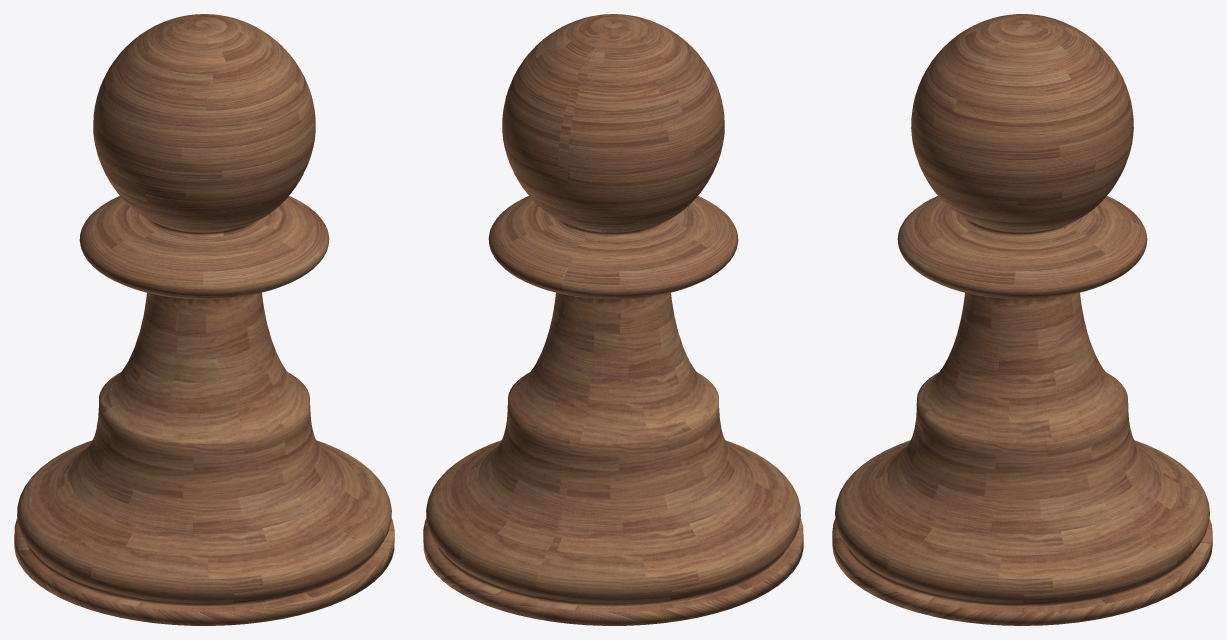
Rendered from model_pawn.glb.
The picture shows the model from 3 angles, left to right: view 1: azimuth 30°, elevation 25°; view 2: azimuth 150°, elevation 25°; view 3: azimuth 270°, elevation 25°; orthographic projection.
Visible parts, largest first — view 1: PAWN; view 2: PAWN; view 3: PAWN.
Part boxes in pixels (box(x1,y1,x2,y2)): PAWN: box(14, 14, 394, 625); PAWN: box(423, 14, 803, 625); PAWN: box(832, 14, 1212, 625).
Size of the model in its own units: 0.693 by 1.05 by 0.693.
Materials: 1 (1 with a texture image).
